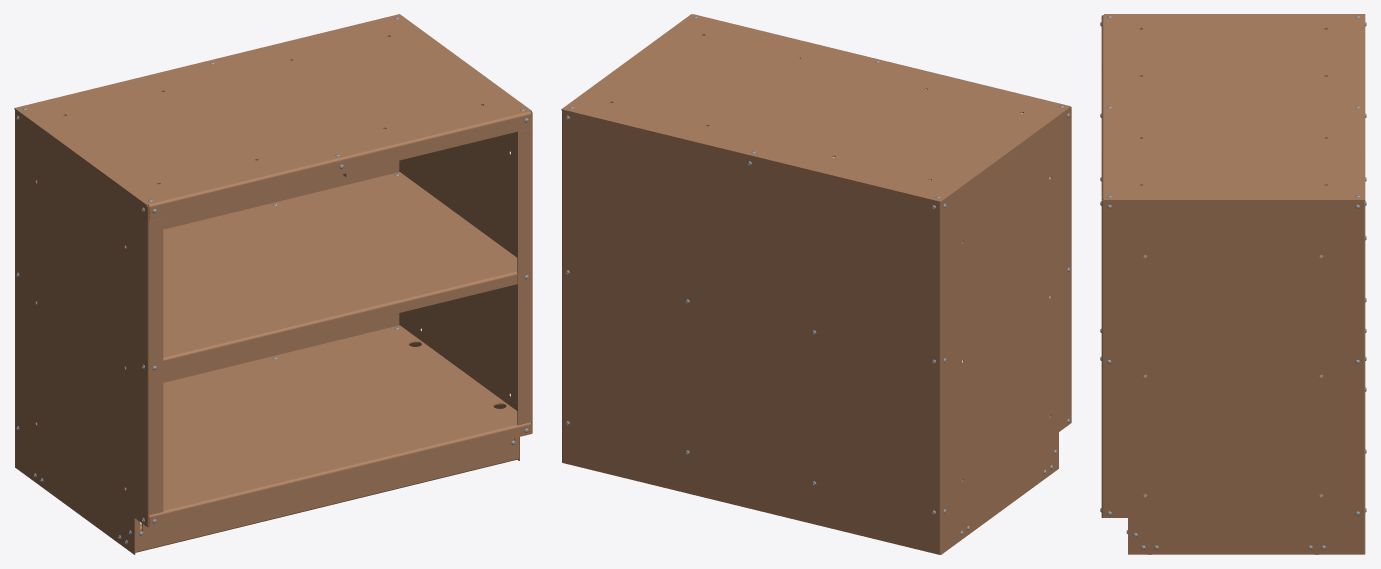
Rendered from bank1000.glb.
3 views of the same model, side by side, from view 1: azimuth 30°, elevation 25°; view 2: azimuth 150°, elevation 25°; view 3: azimuth 270°, elevation 25° (orthographic).
Visible parts, largest first — view 1: corten; view 2: corten; view 3: corten, stal.
Boxes of the visible parts, box(x1,y1,x2,y2) form: corten: box(14, 14, 532, 554); corten: box(561, 14, 1071, 554); corten: box(1101, 14, 1365, 554); stal: box(1100, 15, 1366, 549).
Size of the model in its own units: 1.01 by 0.895 by 0.6059.
